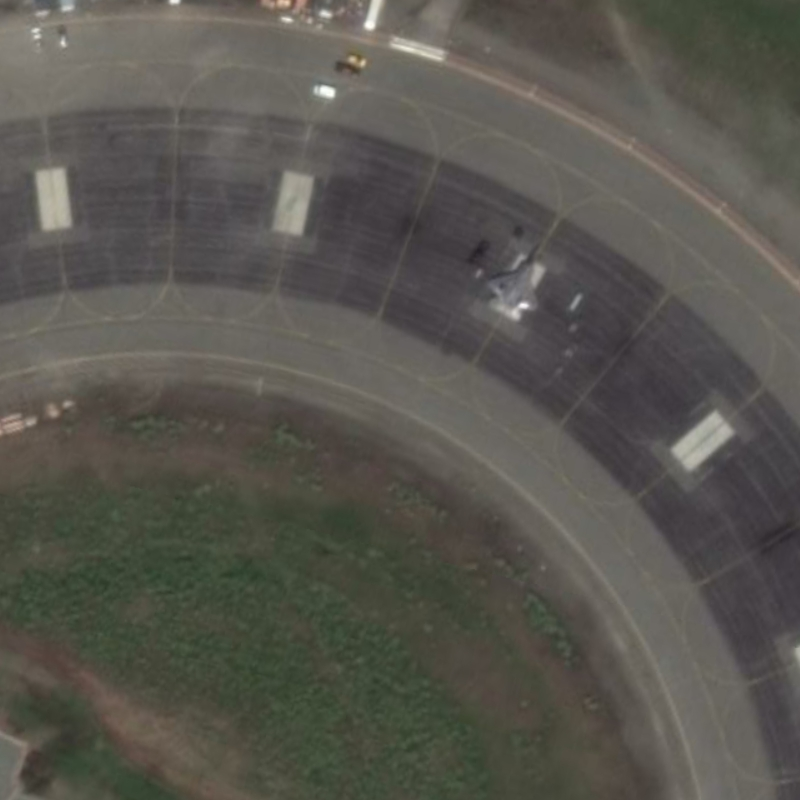A15: (476, 236, 552, 325)
